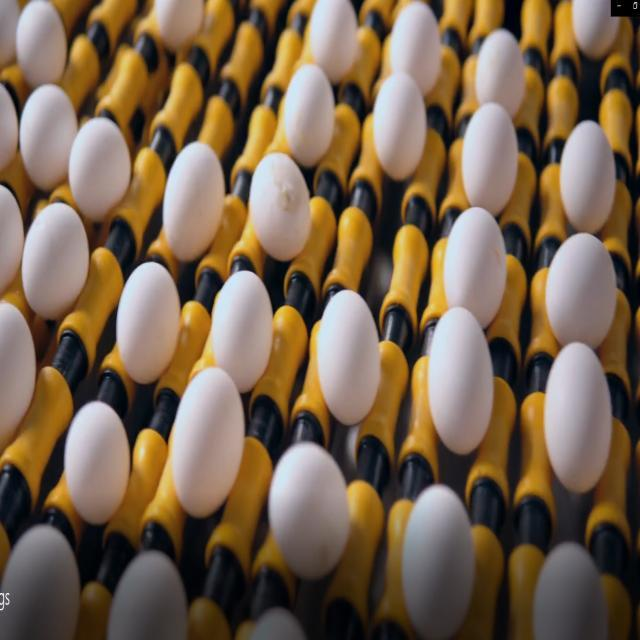Egg: (537, 336, 625, 495), (394, 480, 479, 630), (426, 304, 502, 470), (270, 439, 356, 584), (174, 361, 248, 524), (66, 372, 131, 534), (21, 188, 92, 320), (444, 202, 516, 330), (315, 294, 388, 420), (210, 270, 278, 402), (548, 210, 614, 346), (248, 143, 318, 270), (554, 109, 624, 235), (113, 258, 181, 387), (530, 530, 609, 640), (106, 538, 191, 640), (163, 136, 230, 262), (458, 98, 526, 220), (362, 74, 437, 184), (66, 109, 135, 212), (21, 78, 81, 192), (476, 22, 534, 128), (283, 61, 340, 166), (14, 6, 73, 69)
